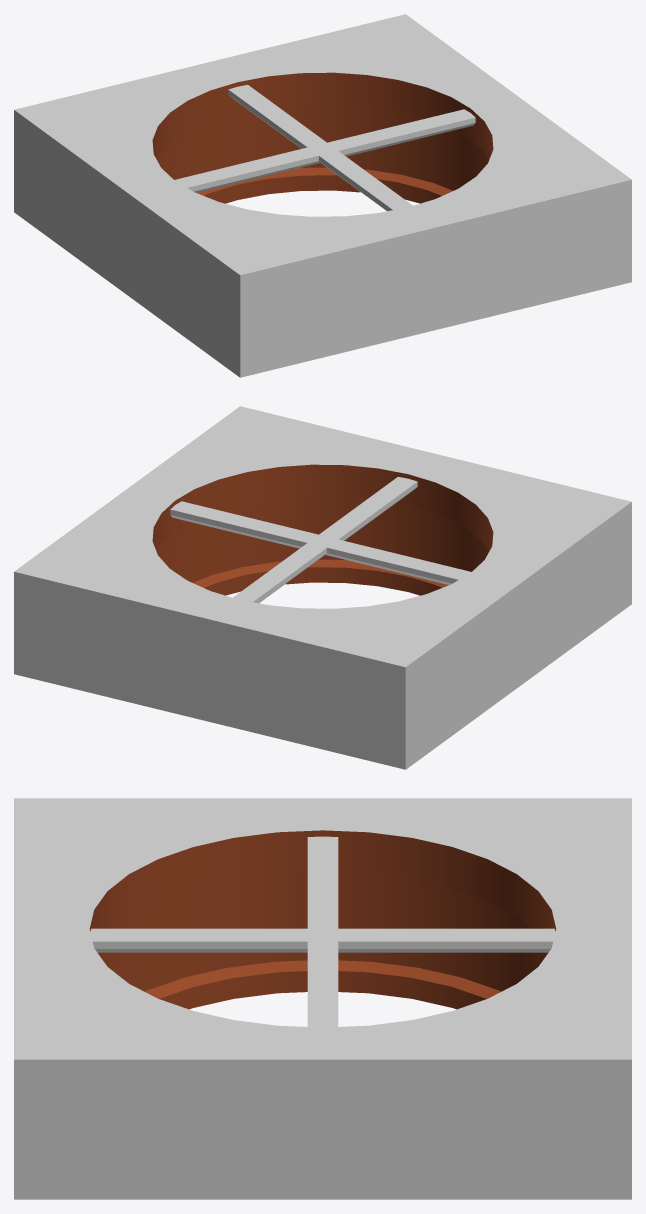
Rendered from CeilingFan_Cage_1x1.fbx.
3 views of the same model, one above another, from view 1: azimuth 30°, elevation 25°; view 2: azimuth 150°, elevation 25°; view 3: azimuth 270°, elevation 25° (orthographic). The views are drawn at different scales.
Visible parts, largest first — view 1: CeilingFan_1x1; view 2: CeilingFan_1x1; view 3: CeilingFan_1x1.
Part boxes in pixels (bbox=[...]): CeilingFan_1x1: bbox=[14, 14, 631, 377]; CeilingFan_1x1: bbox=[14, 406, 631, 769]; CeilingFan_1x1: bbox=[14, 798, 631, 1199].
Bounding box in the file's own units: 800 × 230 × 800.
